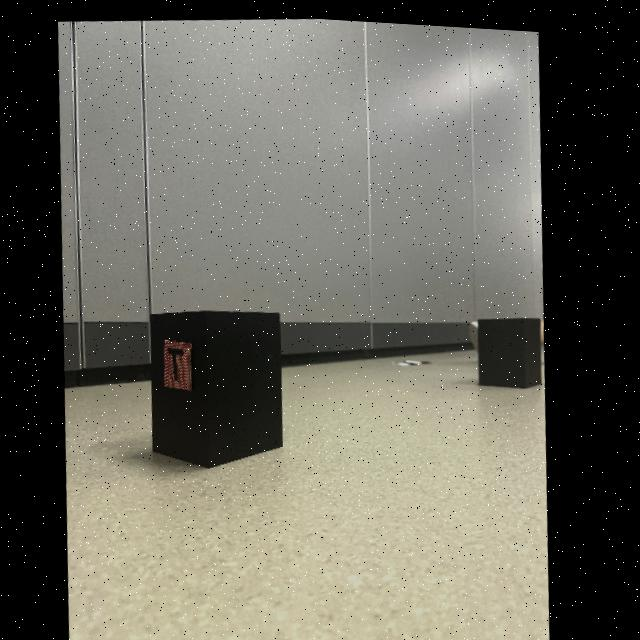T: (172, 346, 188, 377)
